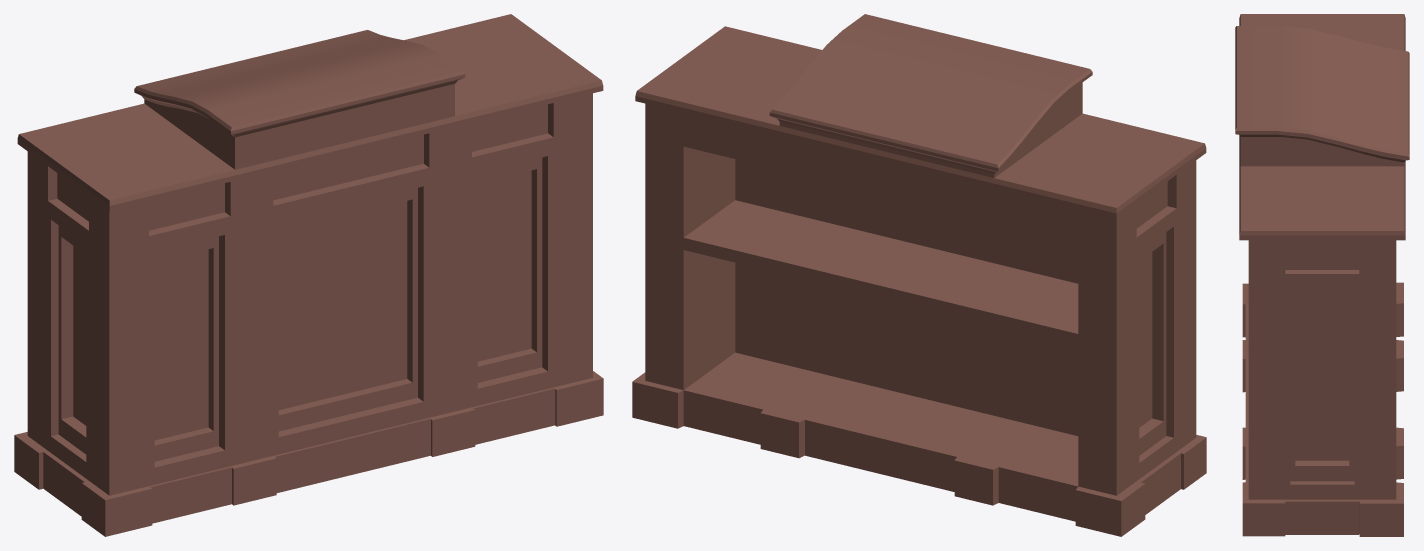
Rendered from Pulpit.fbx.
3 views of the same model, side by side, from view 1: azimuth 30°, elevation 25°; view 2: azimuth 150°, elevation 25°; view 3: azimuth 270°, elevation 25° (orthographic). The views are drawn at different scales.
Parts seen in each view (by area): view 1: polySurface19; view 2: polySurface19; view 3: polySurface19.
Part boxes in pixels (x1,y1,x2,y2): polySurface19: (14, 14, 603, 536); polySurface19: (632, 14, 1206, 536); polySurface19: (1235, 14, 1409, 536).
Size of the model in its own units: 93.05 by 67.68 by 31.03.
